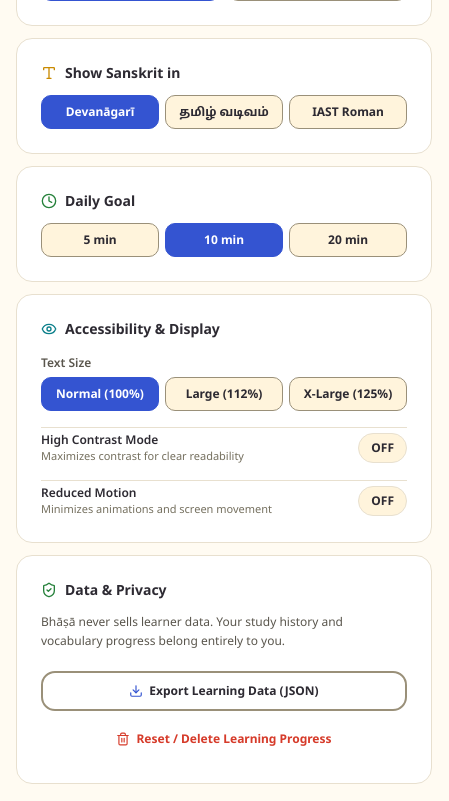
it: Accessibility and Settings in Me Page › toggles reduced motion mode and updates document attribute
(page scrolled)
Click the button with test id "reduced-motion-toggle". click: (383, 501)
box: [358,486,407,516]
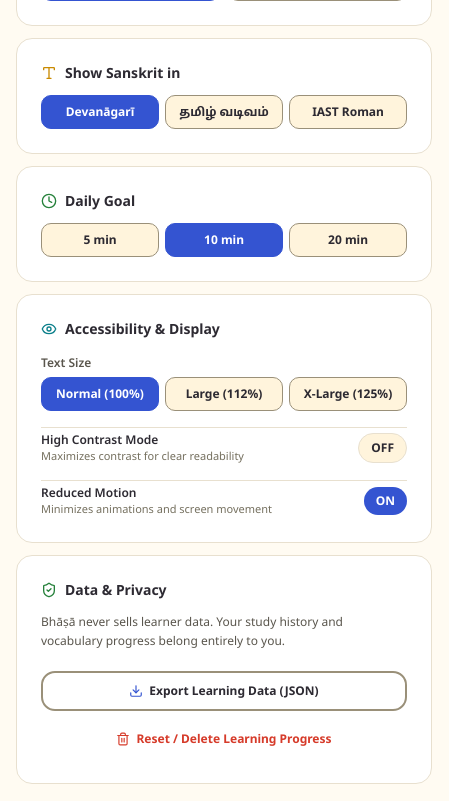
Expected: the button with test id "reduced-motion-toggle" reads "ON", [364,487,407,515]
